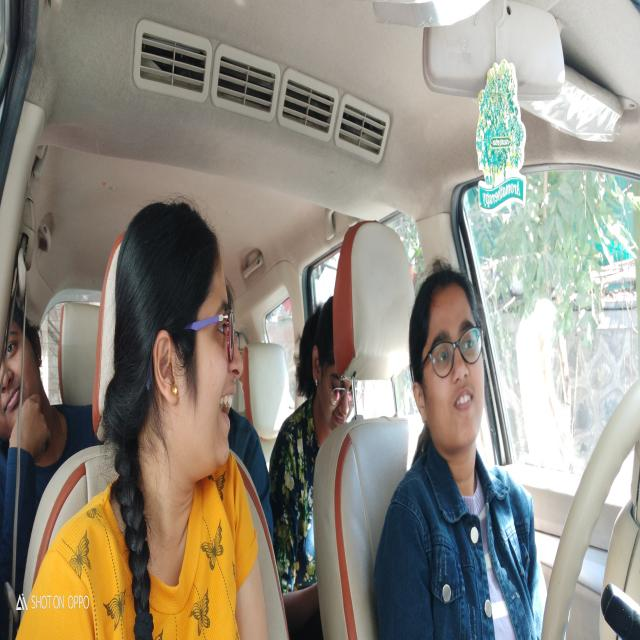person: (112, 187, 245, 489), (406, 267, 489, 456), (294, 286, 359, 426), (0, 302, 43, 445)
